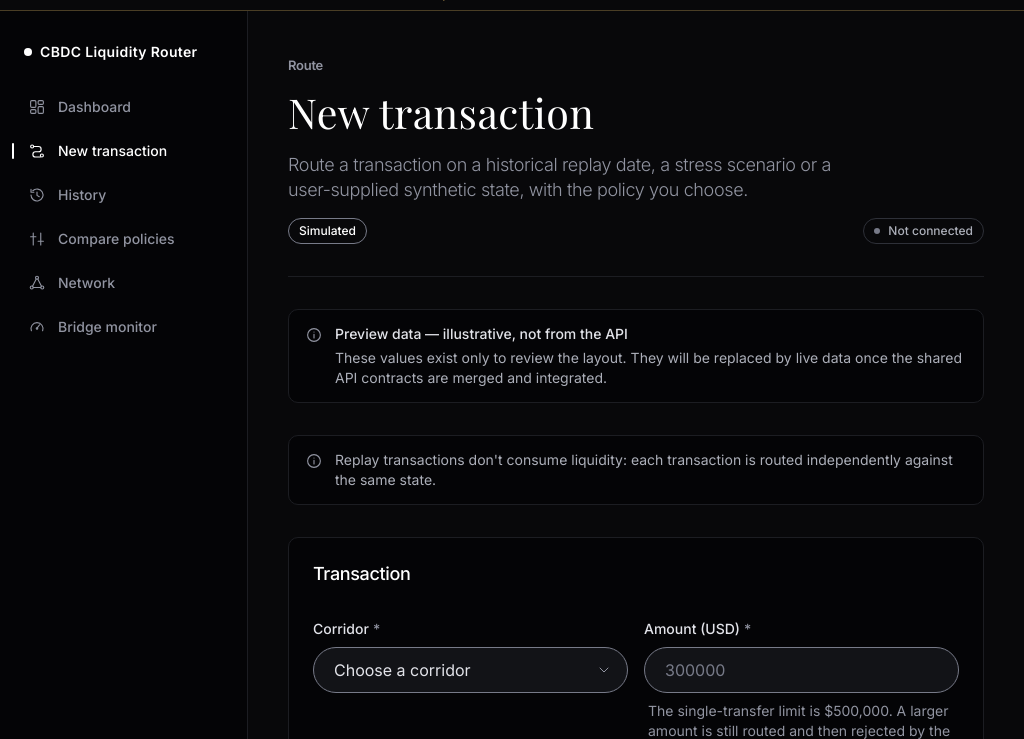
Test: results › shows a completed result, labelled as a preview, with the transaction ID as text only
Select "GBR → PHL" in the dropdown labelled "Corridor" at (470, 670), box [313,647,628,693]
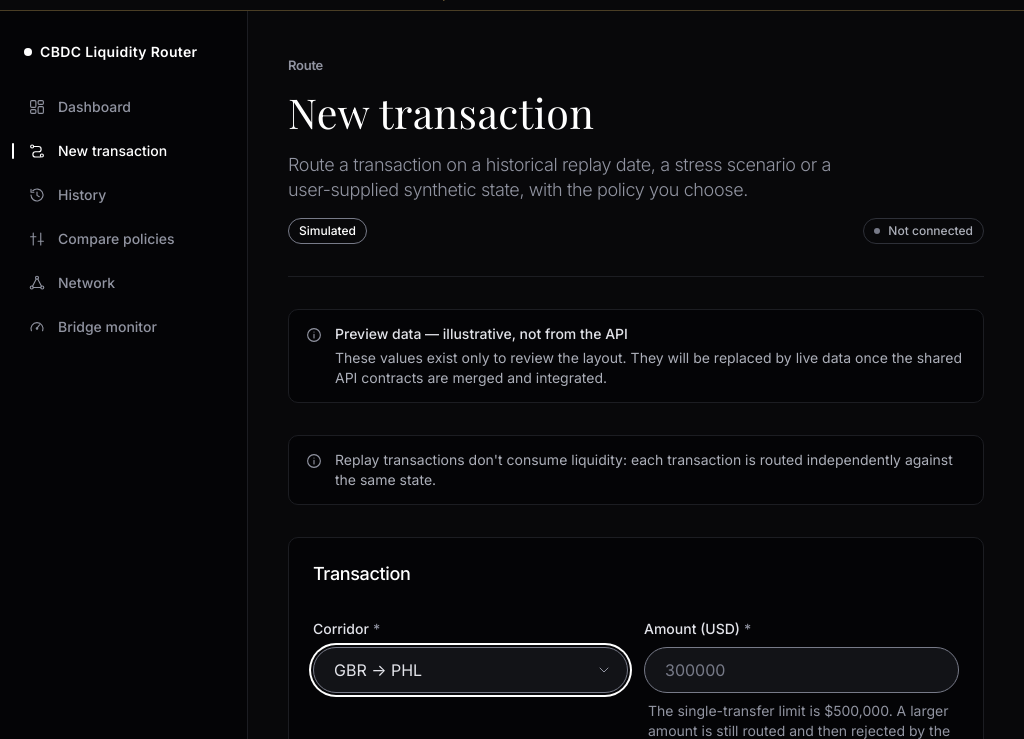
Type "100000" into the field labelled "Amount (USD)" at (802, 670), box [644,647,959,693]
(page scrolled)
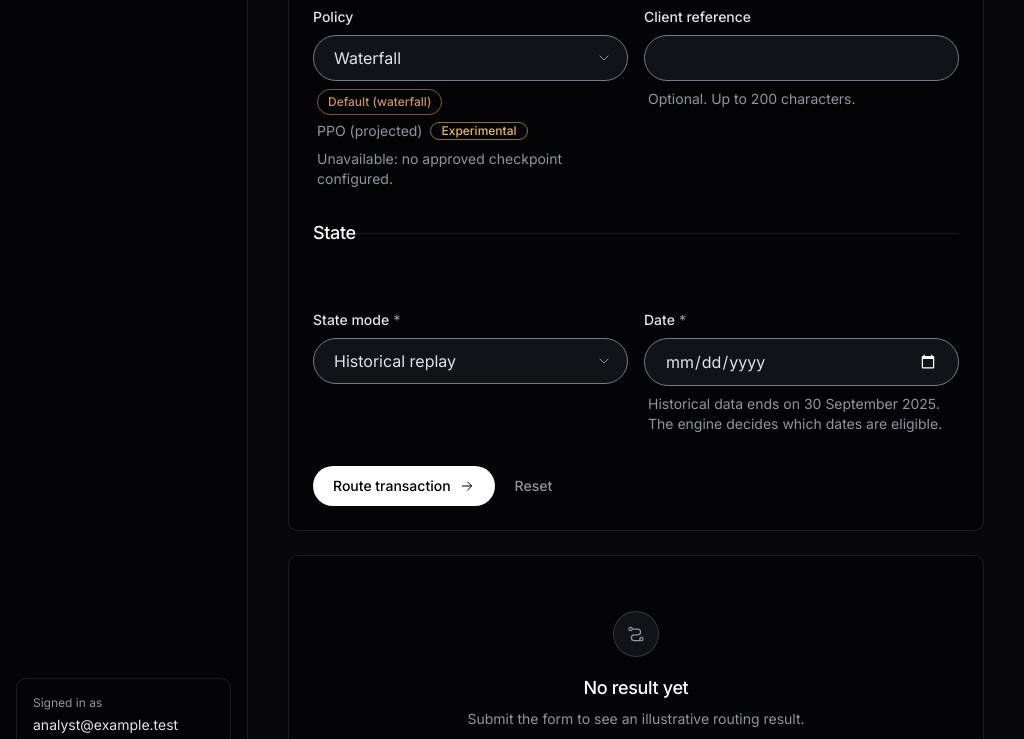
Type "2024-06-14" into the date field labelled "Date*" at (802, 362), box [644,338,959,386]
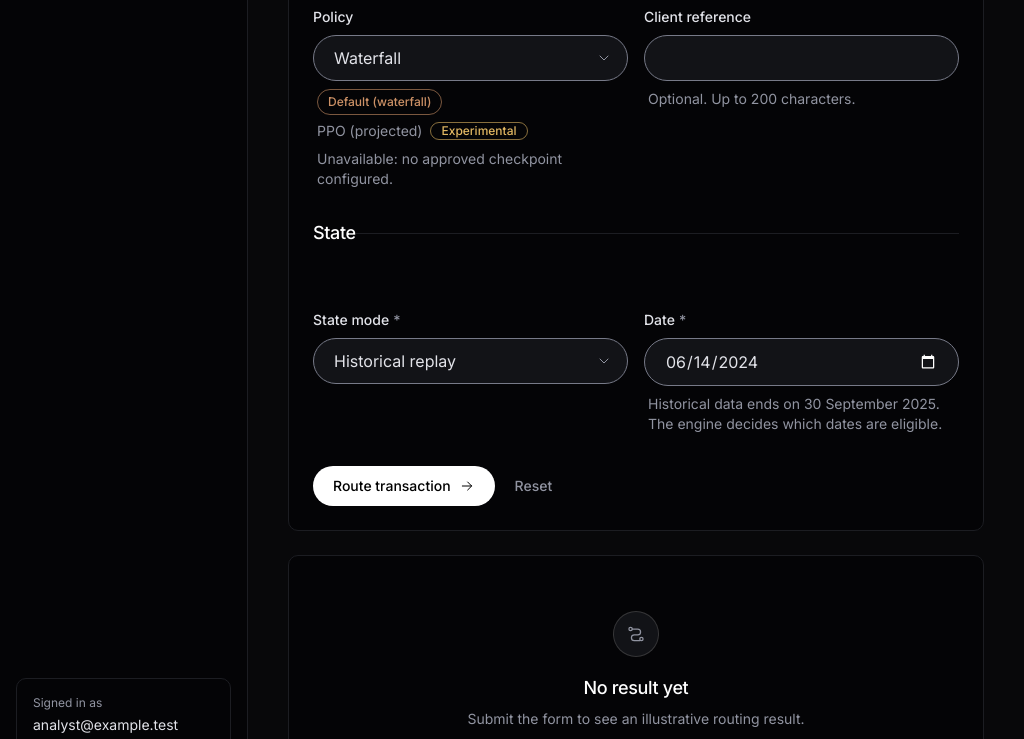
Click the button "Route transaction" at (404, 486), box [313,466,495,506]
(page scrolled)
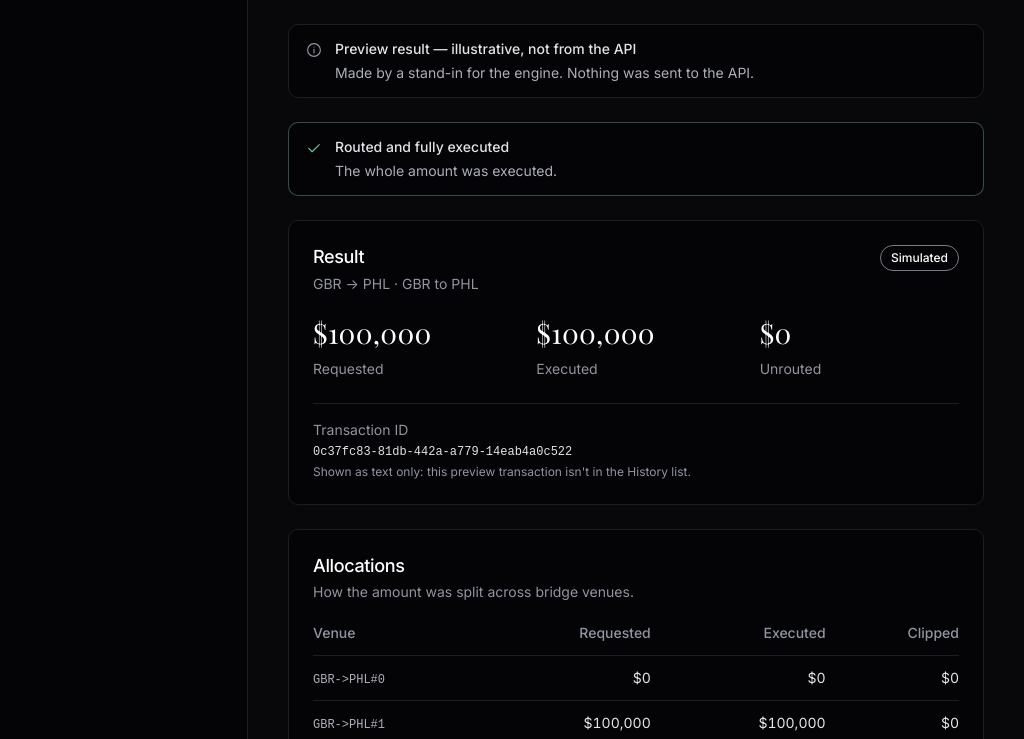
Result: the text "Routed and fully executed" is shown at [335,138,509,155]
Result: the text "Preview result — illustrative, not from the API" is shown at [335,40,636,57]
